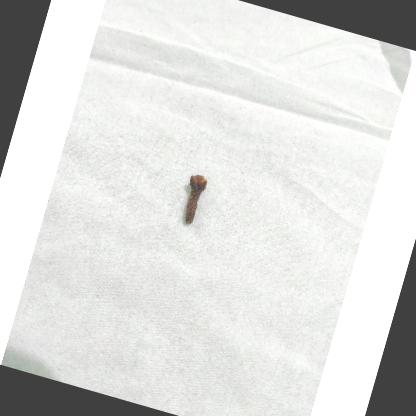sedang: (183, 175, 208, 226)
